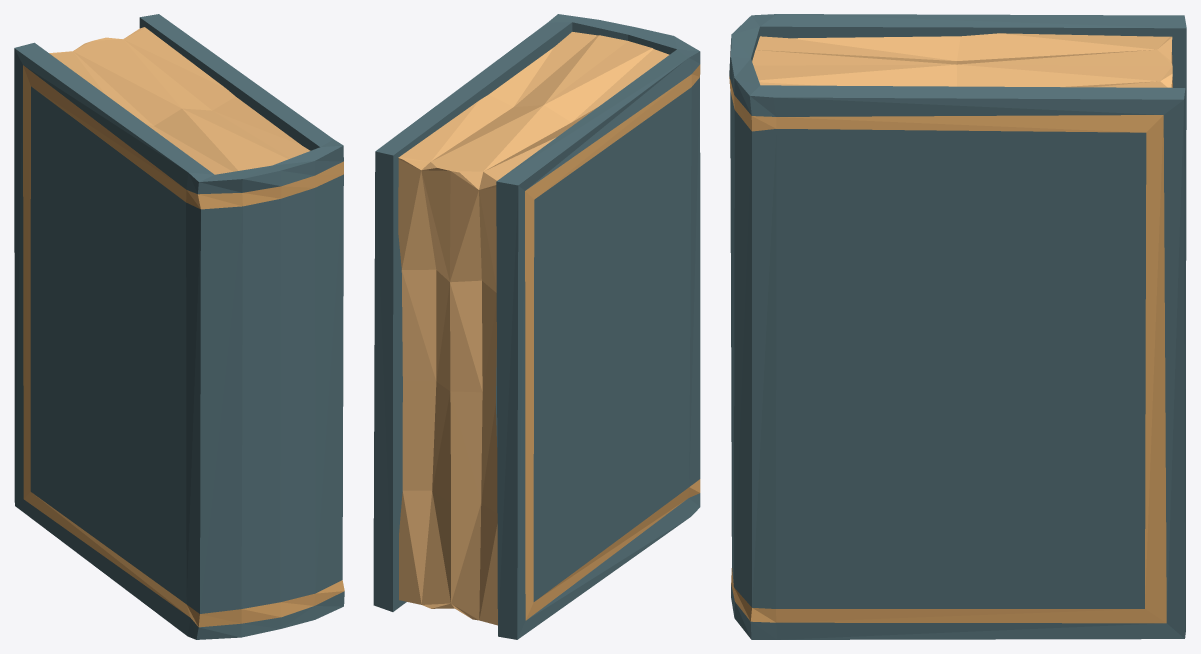
Rendered from SFHW_Book_014.fbx.
3 renders of one model, left to right at view 1: azimuth 30°, elevation 25°; view 2: azimuth 150°, elevation 25°; view 3: azimuth 270°, elevation 25°, orthographic. The views are drawn at different scales.
Parts seen in each view (by area): view 1: SFHW_Book_014; view 2: SFHW_Book_014; view 3: SFHW_Book_014.
Boxes of the visible parts, box(x1,y1,x2,y2) form: SFHW_Book_014: box(14, 14, 344, 639); SFHW_Book_014: box(373, 14, 700, 639); SFHW_Book_014: box(729, 14, 1186, 639).
Bounding box in the file's own units: 10.63 × 31.55 × 23.99.
